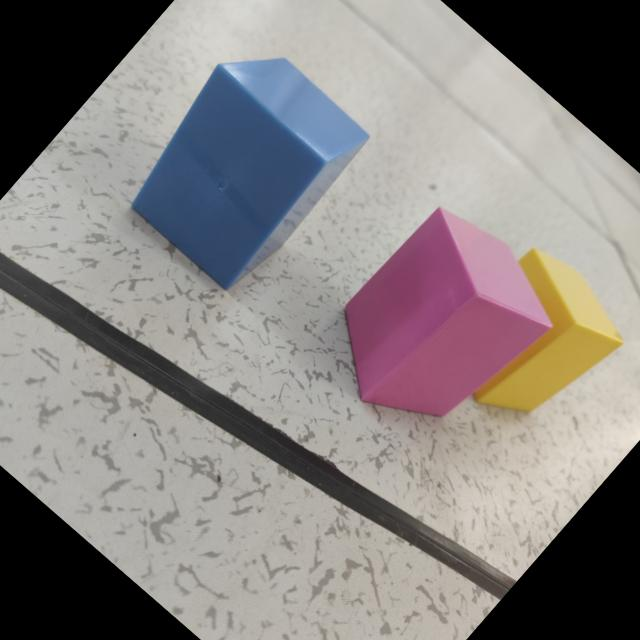blue: (131, 59, 368, 291)
pink: (340, 209, 553, 420)
yellow: (472, 249, 622, 414)
